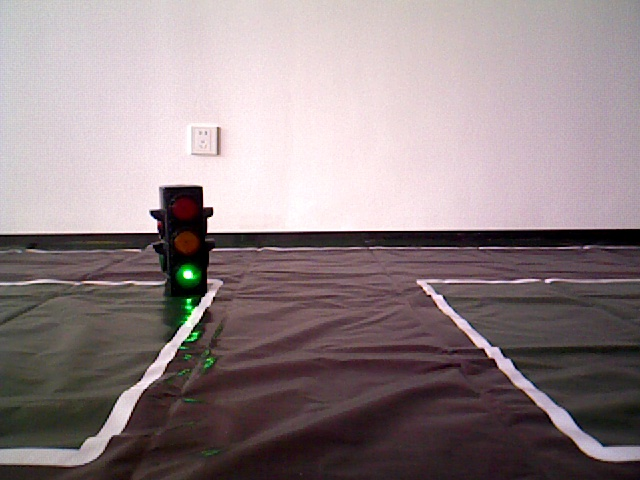green: (161, 189, 204, 294)
